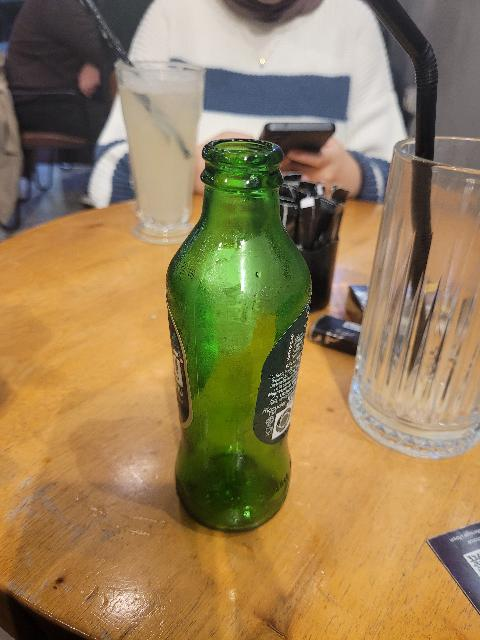Cam: (165, 135, 315, 536)
